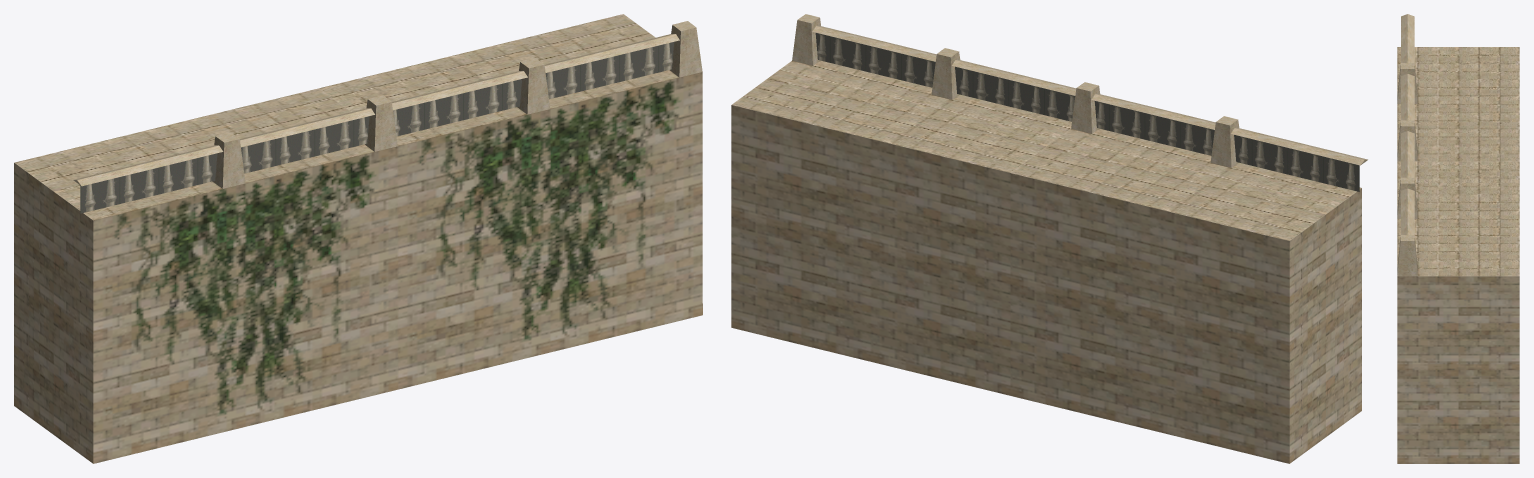
The model's file is thm_nboo_thed_imprv_seawall_straight_s01_2seg_l2.fbx.
3 renders of one model, left to right at view 1: azimuth 30°, elevation 25°; view 2: azimuth 150°, elevation 25°; view 3: azimuth 270°, elevation 25°, orthographic. The views are drawn at different scales.
Visible parts, largest first — view 1: mesh_node; view 2: mesh_node; view 3: mesh_node.
Part boxes in pixels (x1=…): mesh_node: x1=14, y1=14, x2=702, y2=463; mesh_node: x1=731, y1=14, x2=1367, y2=463; mesh_node: x1=1397, y1=14, x2=1519, y2=463.
Bounding box in the file's own units: 16.24 × 7.2 × 3.6.
